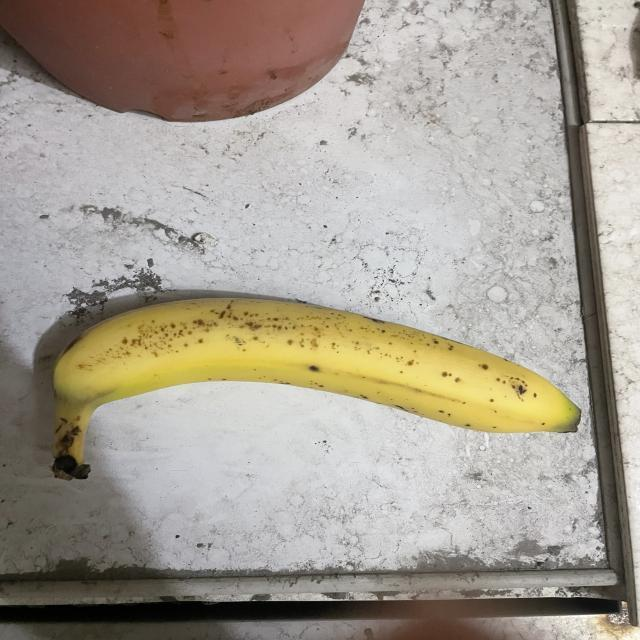Banana: (43, 292, 587, 486)
